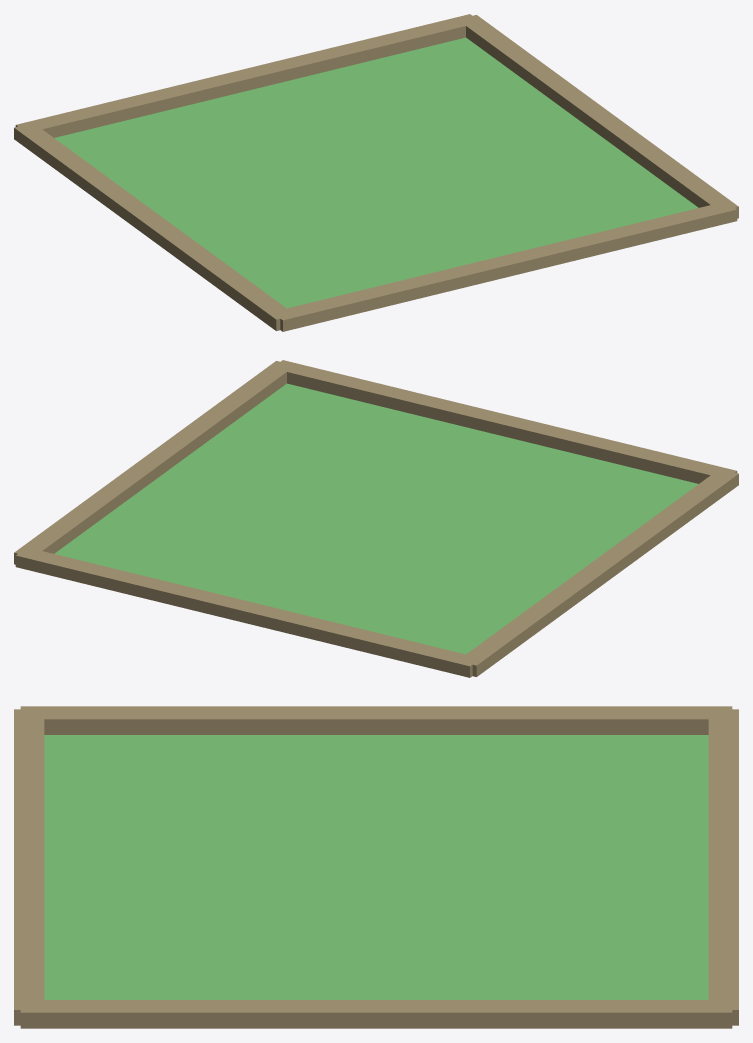
Rendered from Env_PaddyField_Patch.fbx.
3 renders of one model, top to bottom at view 1: azimuth 30°, elevation 25°; view 2: azimuth 150°, elevation 25°; view 3: azimuth 270°, elevation 25°, orthographic. The views are drawn at different scales.
Parts seen in each view (by area): view 1: Env_PaddyField_Patch; view 2: Env_PaddyField_Patch; view 3: Env_PaddyField_Patch.
Boxes of the visible parts, x1,y1,x2,y2 form: Env_PaddyField_Patch: (14, 14, 738, 331); Env_PaddyField_Patch: (14, 360, 738, 677); Env_PaddyField_Patch: (14, 706, 738, 1028).
Size of the model in its own units: 8.35 by 0.2 by 8.35.
